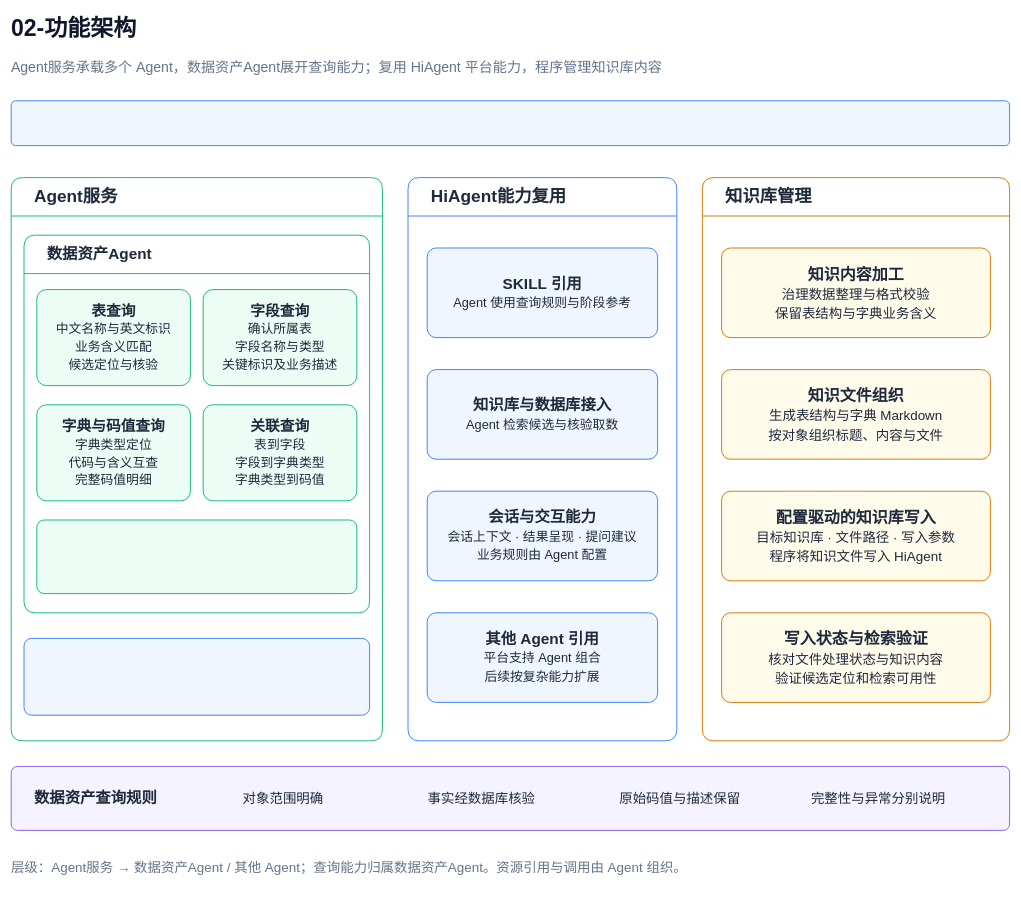
Image size: 1021x899. Some labels were removed from this diagram. Here are the shapes that lost their labels. From the top down, the centre of each, then its label:
At point 510,123: "智能体应用服务入口".
At point 196,556: "业务交互与回答规则 候选确认 · 来源与完整性说明 原始码值保留 · 异常处理".
At point 196,676: "其他 Agent 服务（后续扩展） 与数据资产Agent同级，按业务职责扩展 Agent 可引用多个 Agent 组合复杂能力".
